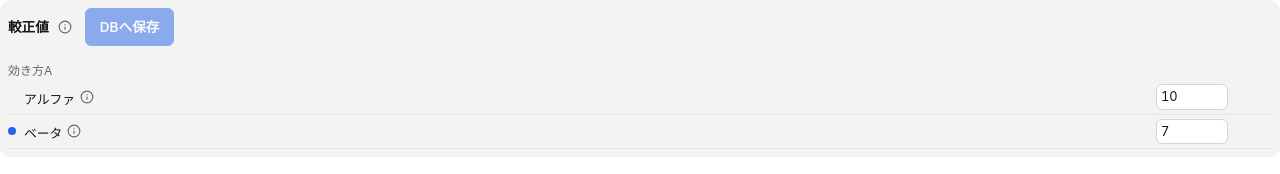
Test case: TuningPanel › 打っただけでは送らず、今の値と違う行だけを未保存として数える。元の値へ戻せば数えない
Check: the button "DBへ保存" is shown, box x1=85 y1=8 x2=174 y2=46
Step 1. Replace the text in the number field named "アルファ" with "12" → (1192, 97), box x1=1156 y1=84 x2=1228 y2=110
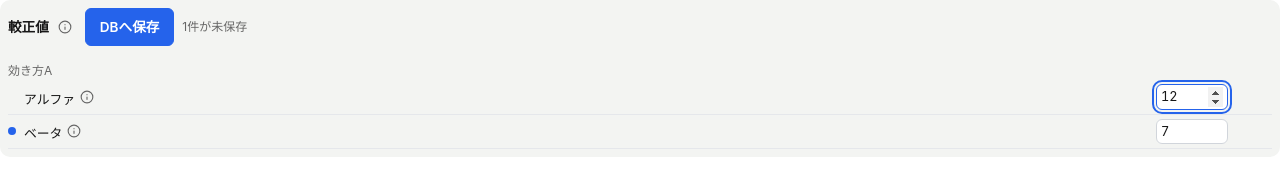
Check: the text "1件が未保存" is shown, box x1=182 y1=18 x2=247 y2=36
Check: the button "DBへ保存" is enabled, box x1=85 y1=8 x2=174 y2=46
Step 2. Replace the text in the number field named "アルファ" with "10" → (1192, 97), box x1=1156 y1=84 x2=1228 y2=110
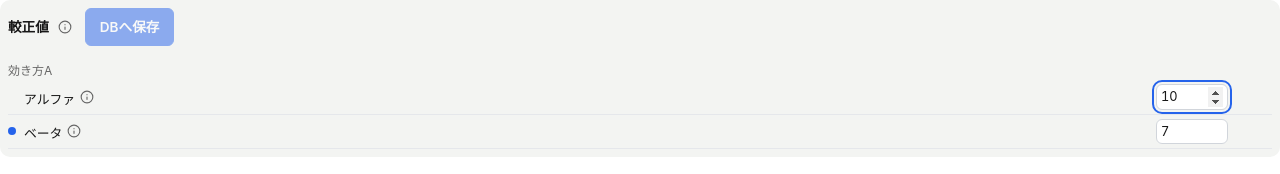
Check: the text "件が未保存" is gone
Check: the button "DBへ保存" is disabled, box x1=85 y1=8 x2=174 y2=46
